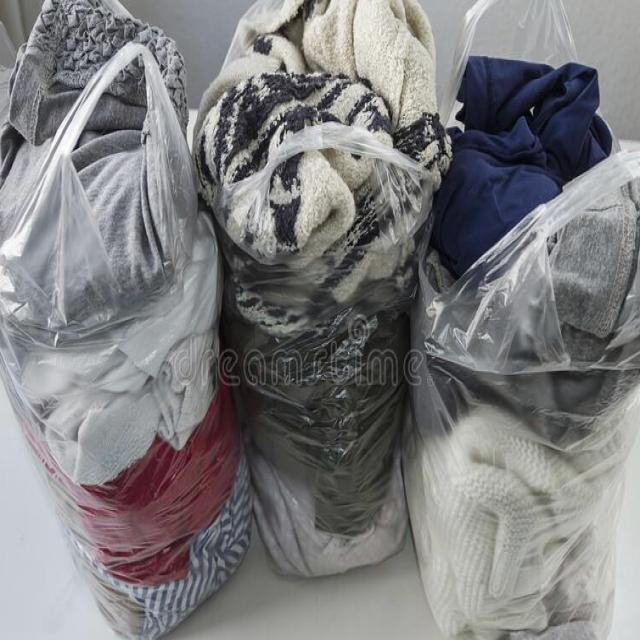clothes: (245, 59, 420, 142)
